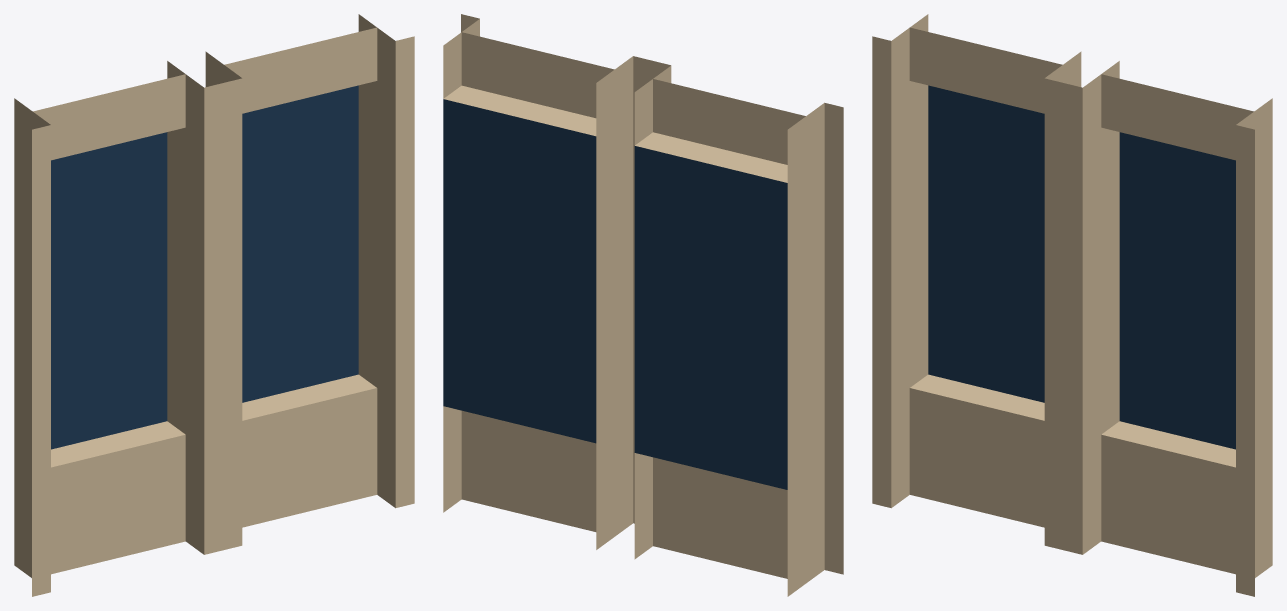
File: mid-w1.fbx
3 views of the same model, side by side, from view 1: azimuth 30°, elevation 25°; view 2: azimuth 150°, elevation 25°; view 3: azimuth 330°, elevation 25° (orthographic).
Visible parts, largest first — view 1: a2012/400/mid-w1; view 2: a2012/400/mid-w1; view 3: a2012/400/mid-w1.
Part boxes in pixels (x1,y1,x2,y2): a2012/400/mid-w1: (14,14,414,596); a2012/400/mid-w1: (443,14,843,596); a2012/400/mid-w1: (872,14,1272,596).
Size of the model in its own units: 3 by 3.5 by 0.5.
